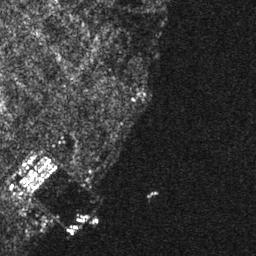ship: (146, 190, 159, 198), (78, 212, 91, 219), (65, 227, 76, 235), (89, 217, 98, 225), (76, 217, 87, 223), (69, 223, 78, 230)
